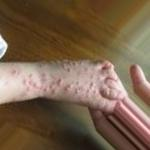Ants: (49, 59, 80, 71), (22, 74, 37, 91), (67, 84, 73, 90), (57, 78, 62, 85)
